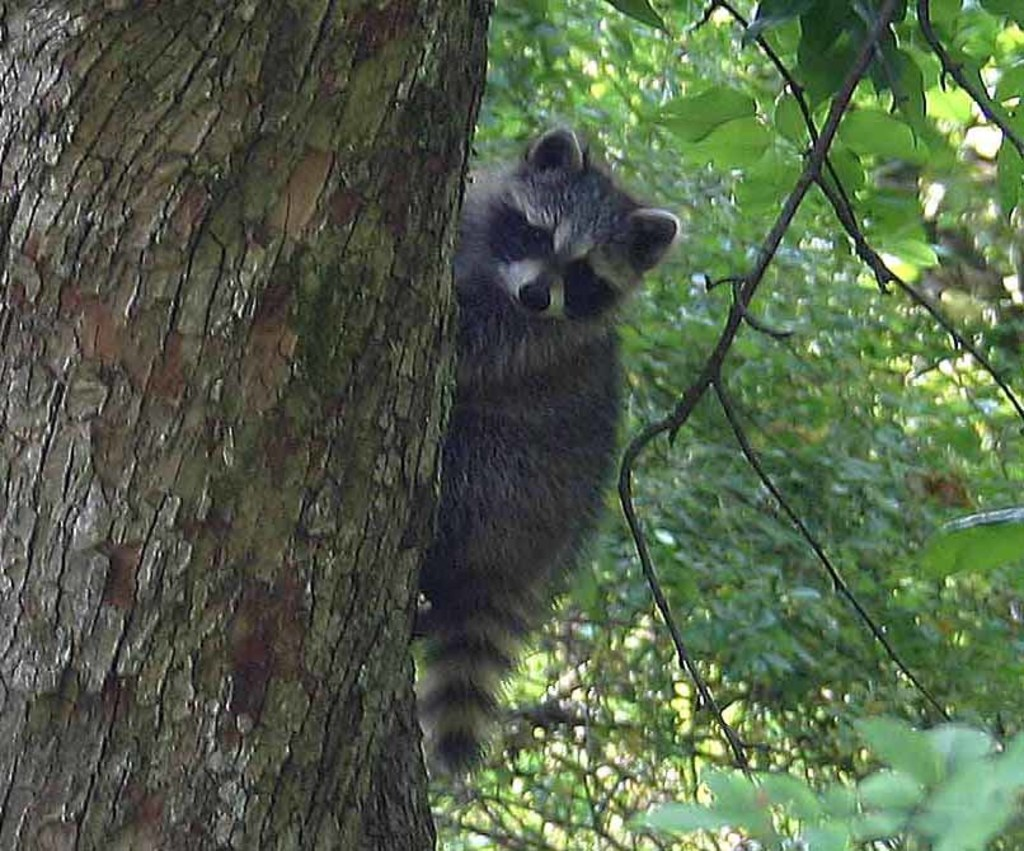raccoon: (422, 128, 680, 781)
